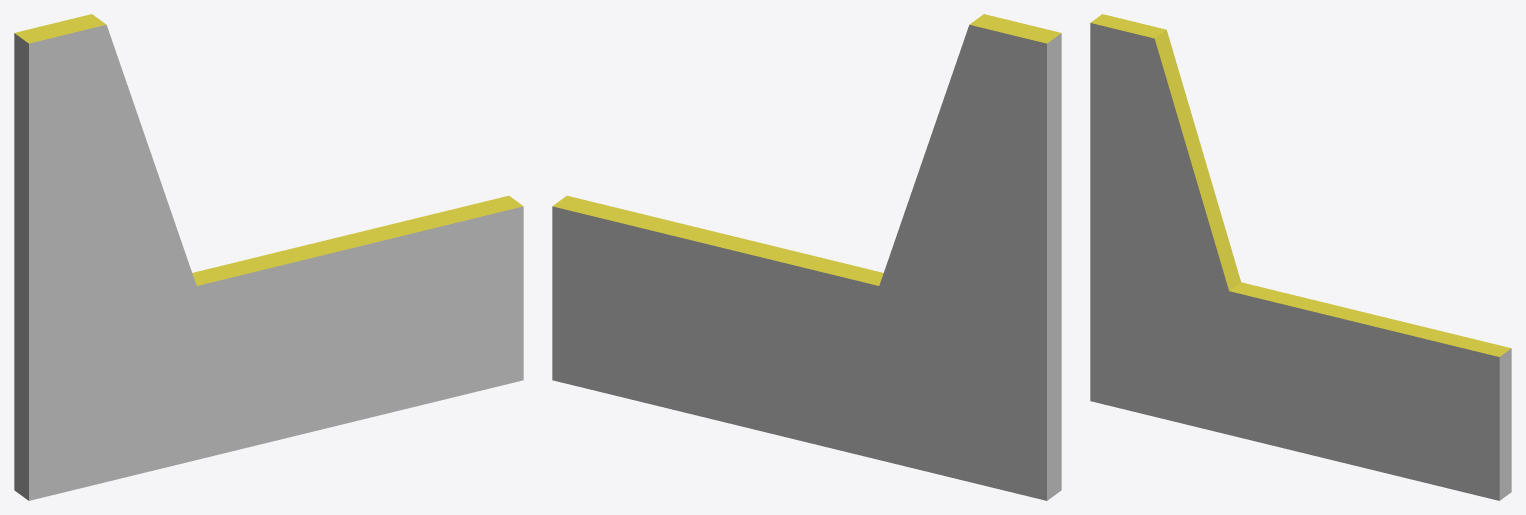
Rendered from wall.fbx.
The picture shows the model from 3 angles, left to right: view 1: azimuth 30°, elevation 25°; view 2: azimuth 150°, elevation 25°; view 3: azimuth 330°, elevation 25°; orthographic projection. The views are drawn at different scales.
Parts seen in each view (by area): view 1: Cube; view 2: Cube; view 3: Cube.
Part boxes in pixels (x1,y1,x2,y2): Cube: (14, 14, 523, 500); Cube: (552, 14, 1061, 500); Cube: (1090, 14, 1511, 500).
Bounding box in the file's own units: 500 × 442 × 25.6.
